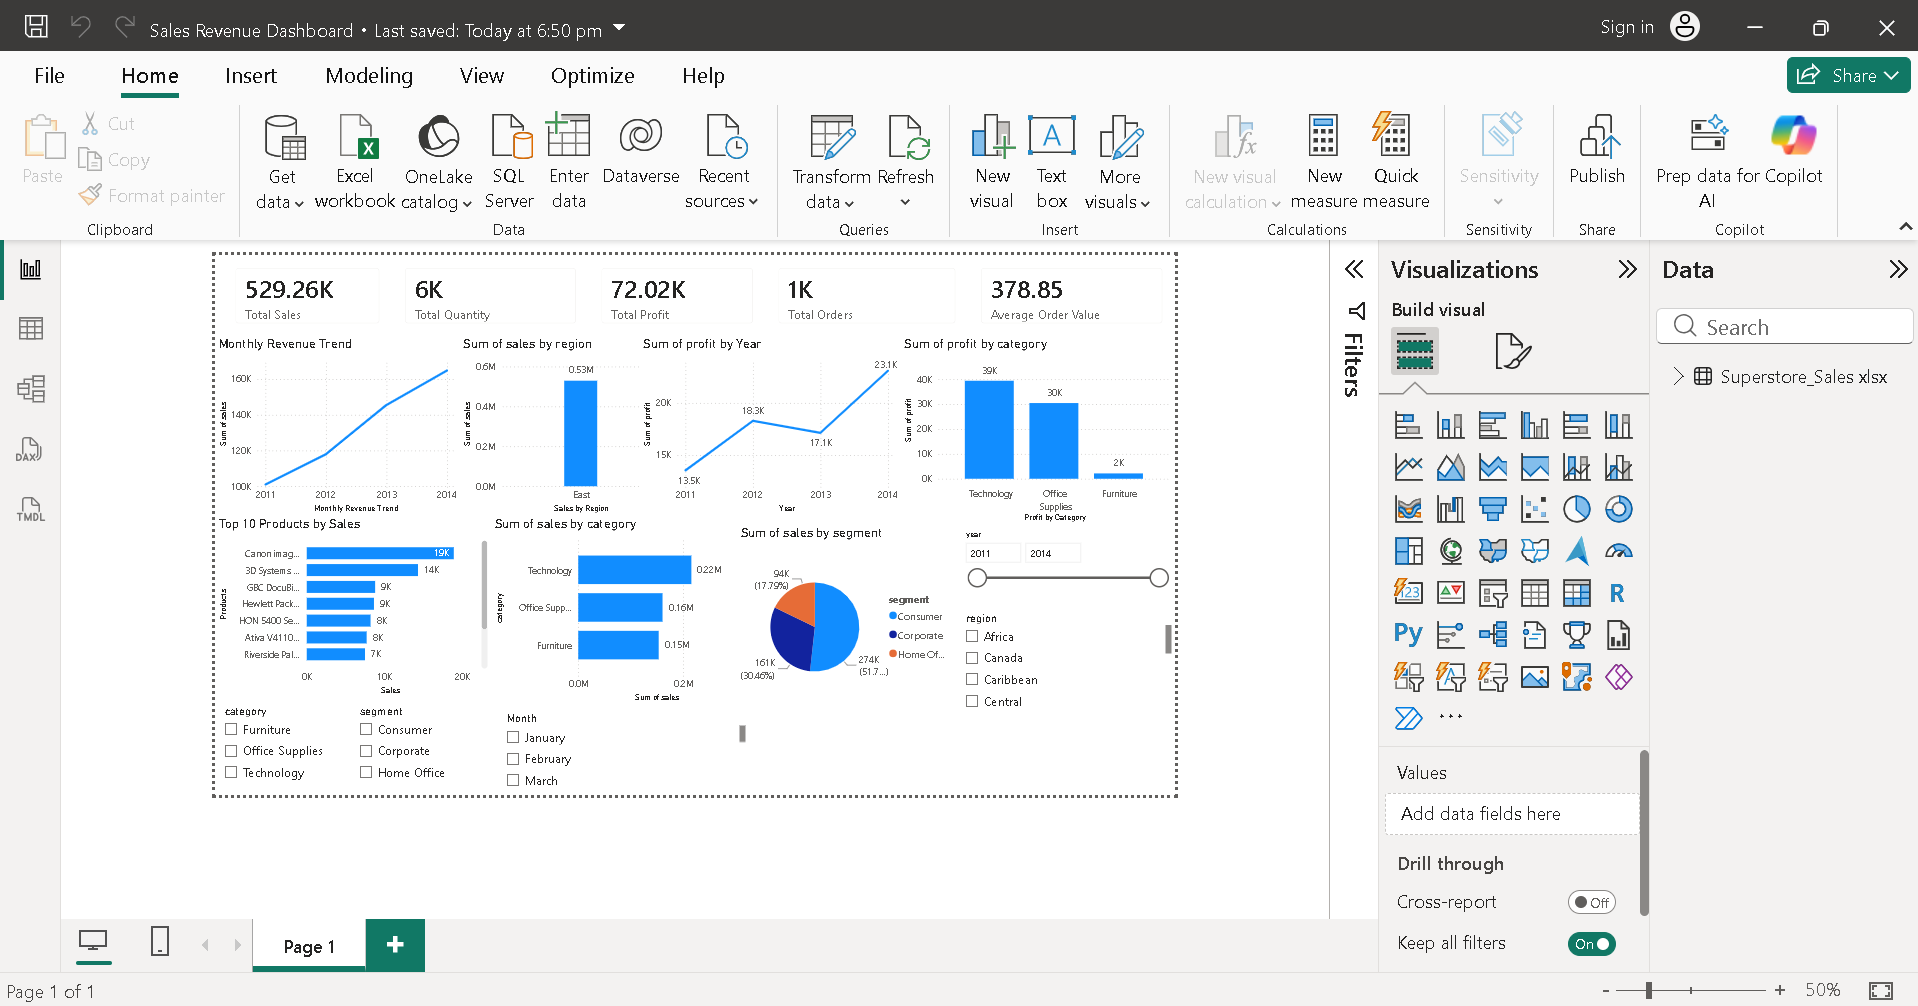

This screenshot's page, from the dashboard's own definition file:
{"tool":"powerbi","page":{"name":"Page 1","canvas":[1280,720],"ordinal":0},"visuals":[{"type":"cardVisual","fields":{"Data":["Superstore_Sales xlsx.Total Sales"]},"box":[10,0,226,108],"z":0},{"type":"cardVisual","fields":{"Data":["Superstore_Sales xlsx.Total Quantity"]},"box":[236,0,262,108],"z":1000},{"type":"cardVisual","fields":{"Data":["Superstore_Sales xlsx.Total Profit"]},"box":[498,0,236,108],"z":2000},{"type":"cardVisual","fields":{"Data":["Superstore_Sales xlsx.Total Orders"]},"box":[734,0,270,108],"z":3000},{"type":"cardVisual","fields":{"Data":["Superstore_Sales xlsx.Average Order Value"]},"box":[1004,0,276,108],"z":4000},{"type":"lineChart","title":"Monthly Revenue Trend","fields":{"Category":["Superstore_Sales xlsx.order_date.Variation.Date Hierarchy.Year","Superstore_Sales xlsx.order_date.Variation.Date Hierarchy.Quarter","Superstore_Sales xlsx.order_date.Variation.Date Hierarchy.Month","Superstore_Sales xlsx.order_date.Variation.Date Hierarchy.Day"],"Y":["Sum(Superstore_Sales xlsx.sales)"]},"box":[0,108,326,240],"z":5000},{"type":"clusteredBarChart","fields":{"Category":["Superstore_Sales xlsx.category"],"Y":["Sum(Superstore_Sales xlsx.sales)"]},"box":[368,348,344,252],"z":6000},{"type":"barChart","title":"Top 10 Products by Sales","fields":{"Category":["Superstore_Sales xlsx.product_name"],"Y":["Sum(Superstore_Sales xlsx.sales)"]},"box":[0,348,368,242],"z":7000},{"type":"columnChart","fields":{"Category":["Superstore_Sales xlsx.region"],"Y":["Sum(Superstore_Sales xlsx.sales)"]},"box":[326,108,272,240],"z":8000},{"type":"columnChart","fields":{"Category":["Superstore_Sales xlsx.category"],"Y":["Sum(Superstore_Sales xlsx.profit)"]},"box":[914,108,366,252],"z":9000},{"type":"lineChart","fields":{"Category":["Superstore_Sales xlsx.order_date.Variation.Date Hierarchy.Year","Superstore_Sales xlsx.order_date.Variation.Date Hierarchy.Quarter","Superstore_Sales xlsx.order_date.Variation.Date Hierarchy.Month","Superstore_Sales xlsx.order_date.Variation.Date Hierarchy.Day"],"Y":["Sum(Superstore_Sales xlsx.profit)"]},"box":[566,108,348,240],"z":10000},{"type":"pieChart","fields":{"Category":["Superstore_Sales xlsx.segment"],"Y":["Sum(Superstore_Sales xlsx.sales)"]},"box":[696,360,292,252],"z":11000},{"type":"slicer","fields":{"Values":["Superstore_Sales xlsx.year"]},"box":[988,360,292,98],"z":12000},{"type":"slicer","fields":{"Values":["Superstore_Sales xlsx.region"]},"box":[988,470,292,148],"z":13000},{"type":"slicer","fields":{"Values":["Superstore_Sales xlsx.category"]},"box":[0,594,268,126],"z":14000},{"type":"slicer","fields":{"Values":["Superstore_Sales xlsx.segment"]},"box":[180,594,250,126],"z":15000},{"type":"slicer","fields":{"Values":["Superstore_Sales xlsx.order_date.Variation.Date Hierarchy.Month"]},"box":[376,604,336,116],"z":16000}]}

Visuals, with their boxes on the page's 1280x720 design canvas (x1, y1, x2, y2). These are canvas units, not pixel positions in the 1918x1006 screenshot, which may show the page scaled, cropped or inside an application window:
cardVisual - Superstore_Sales xlsx.Total Sales: BBox(10, 0, 236, 108)
cardVisual - Superstore_Sales xlsx.Total Quantity: BBox(236, 0, 498, 108)
cardVisual - Superstore_Sales xlsx.Total Profit: BBox(498, 0, 734, 108)
cardVisual - Superstore_Sales xlsx.Total Orders: BBox(734, 0, 1004, 108)
cardVisual - Superstore_Sales xlsx.Average Order Value: BBox(1004, 0, 1280, 108)
"Monthly Revenue Trend" lineChart: BBox(0, 108, 326, 348)
clusteredBarChart - Superstore_Sales xlsx.category x Sum(Superstore_Sales xlsx.sales): BBox(368, 348, 712, 600)
"Top 10 Products by Sales" barChart: BBox(0, 348, 368, 590)
columnChart - Superstore_Sales xlsx.region x Sum(Superstore_Sales xlsx.sales): BBox(326, 108, 598, 348)
columnChart - Superstore_Sales xlsx.category x Sum(Superstore_Sales xlsx.profit): BBox(914, 108, 1280, 360)
lineChart - Superstore_Sales xlsx.order_date.Variation.Date Hierarchy.Year x Superstore_Sales xlsx.order_date.Variation.Date Hierarchy.Quarter: BBox(566, 108, 914, 348)
pieChart - Superstore_Sales xlsx.segment x Sum(Superstore_Sales xlsx.sales): BBox(696, 360, 988, 612)
slicer - Superstore_Sales xlsx.year: BBox(988, 360, 1280, 458)
slicer - Superstore_Sales xlsx.region: BBox(988, 470, 1280, 618)
slicer - Superstore_Sales xlsx.category: BBox(0, 594, 268, 720)
slicer - Superstore_Sales xlsx.segment: BBox(180, 594, 430, 720)
slicer - Superstore_Sales xlsx.order_date.Variation.Date Hierarchy.Month: BBox(376, 604, 712, 720)
